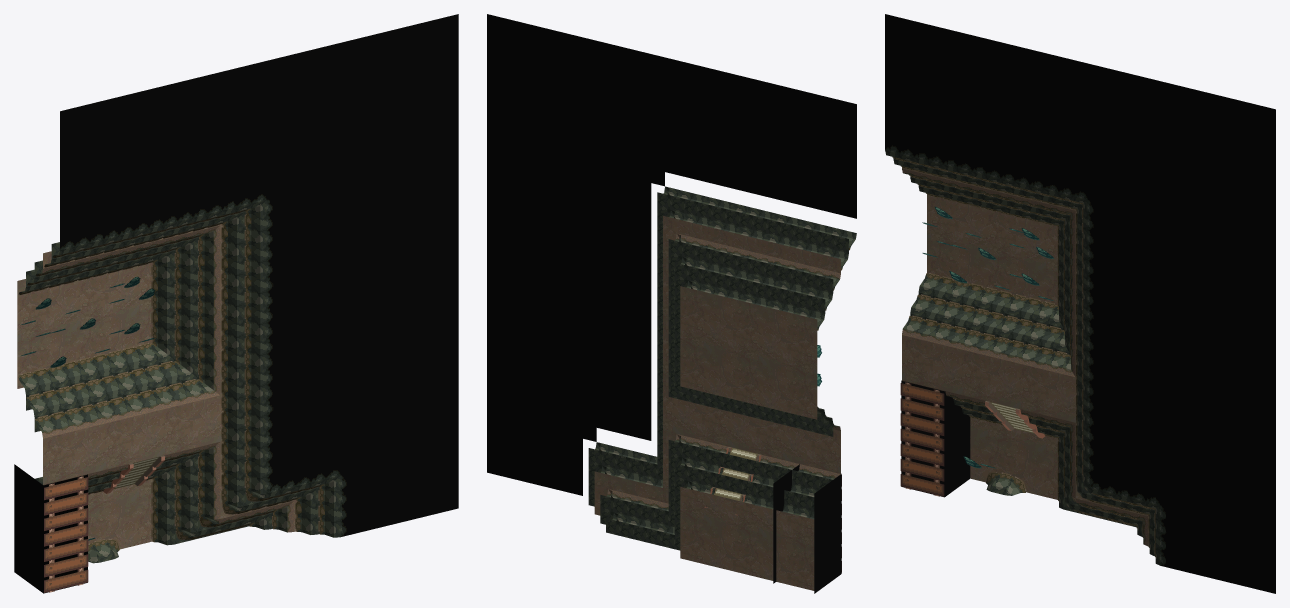
The model's file is HGRT-Caves-v1_01_08.obj.
3 renders of one model, left to right at view 1: azimuth 30°, elevation 25°; view 2: azimuth 150°, elevation 25°; view 3: azimuth 330°, elevation 25°, orthographic. The views are drawn at different scales.
Visible parts, largest first — view 1: map; view 2: map; view 3: map.
Part boxes in pixels (left/top/right/bottom): map: left=14, top=14, right=458, bottom=593; map: left=487, top=14, right=856, bottom=593; map: left=885, top=14, right=1275, bottom=593.
Size of the model in its own units: 27 by 32 by 5.38.
Materials: 13 (13 with a texture image).
